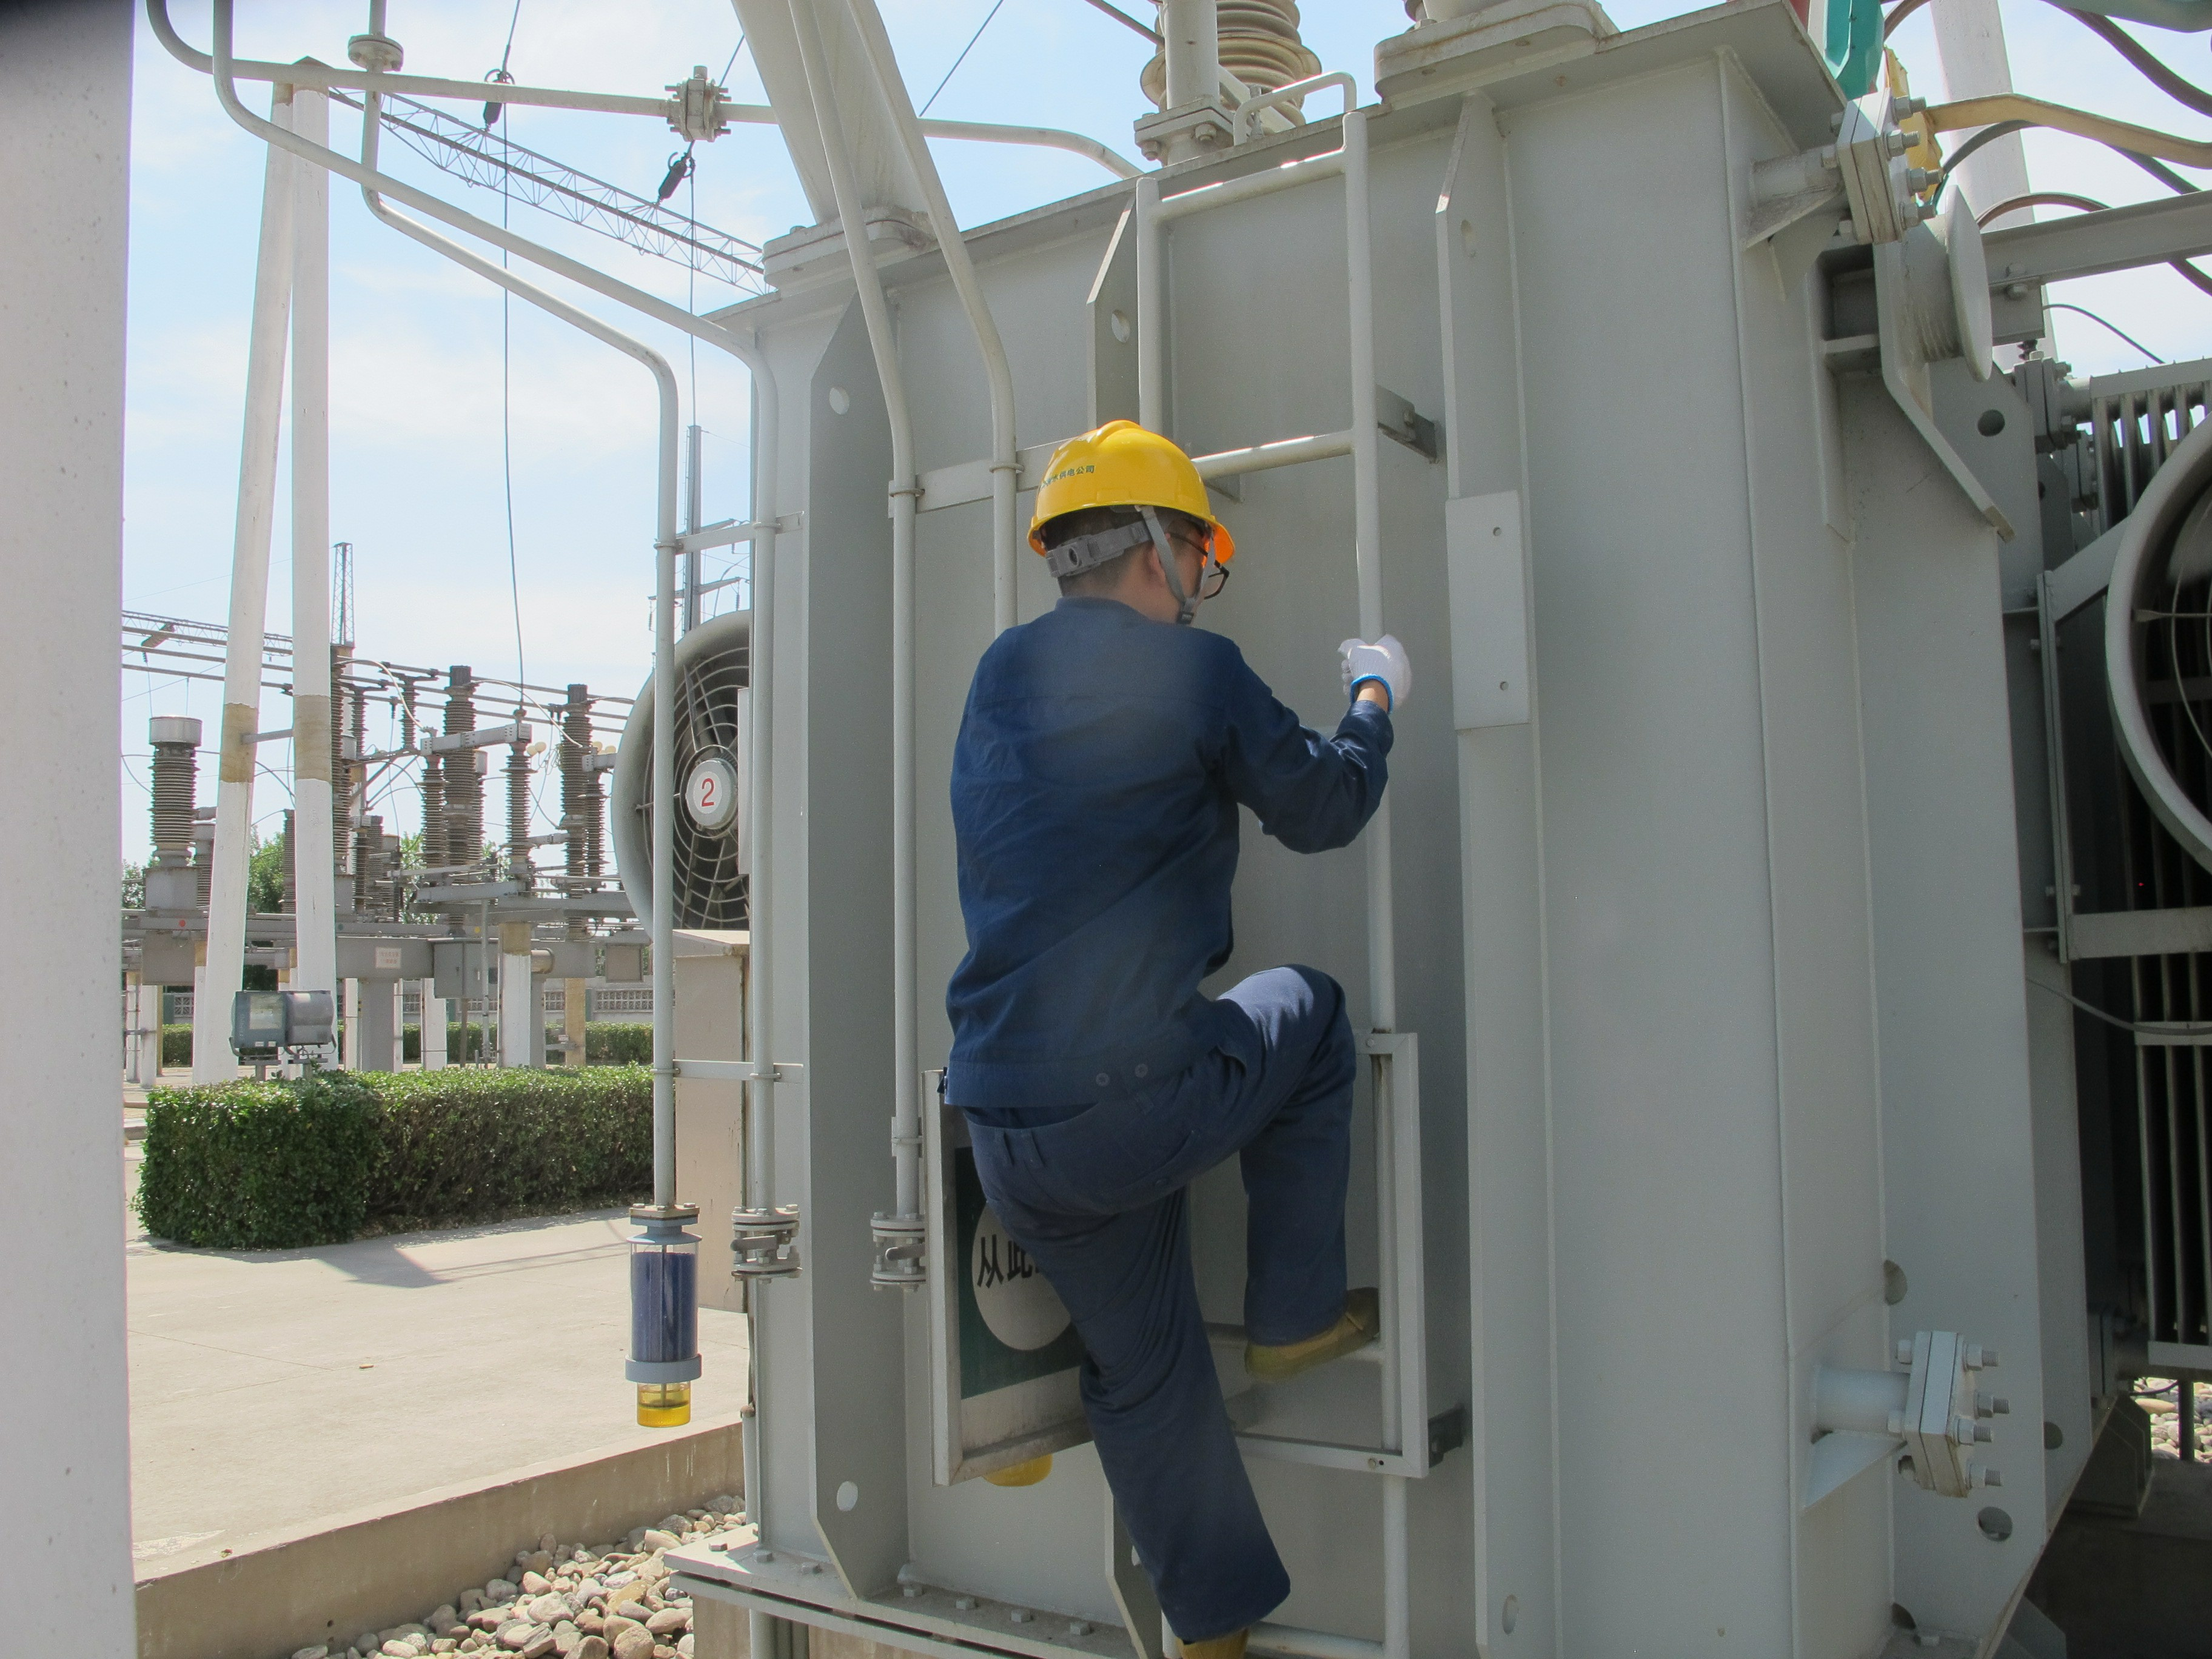hat: (1017, 415, 1244, 631)
